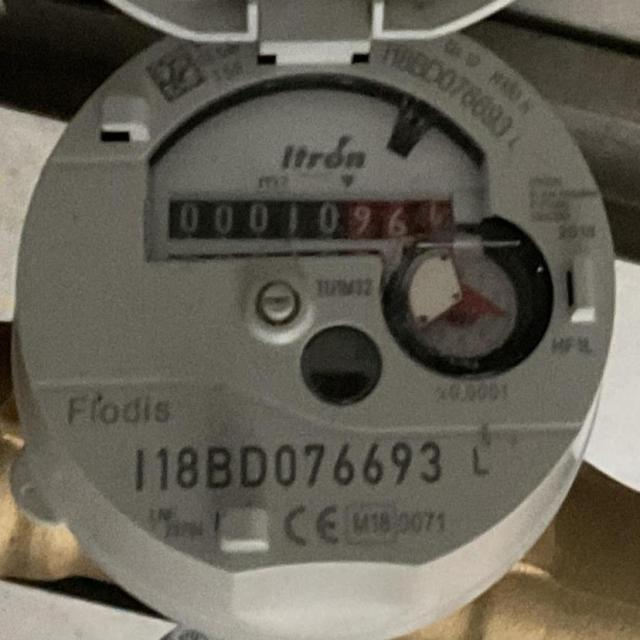gaz_meter: (18, 22, 618, 570)
indication: (164, 191, 460, 244)
